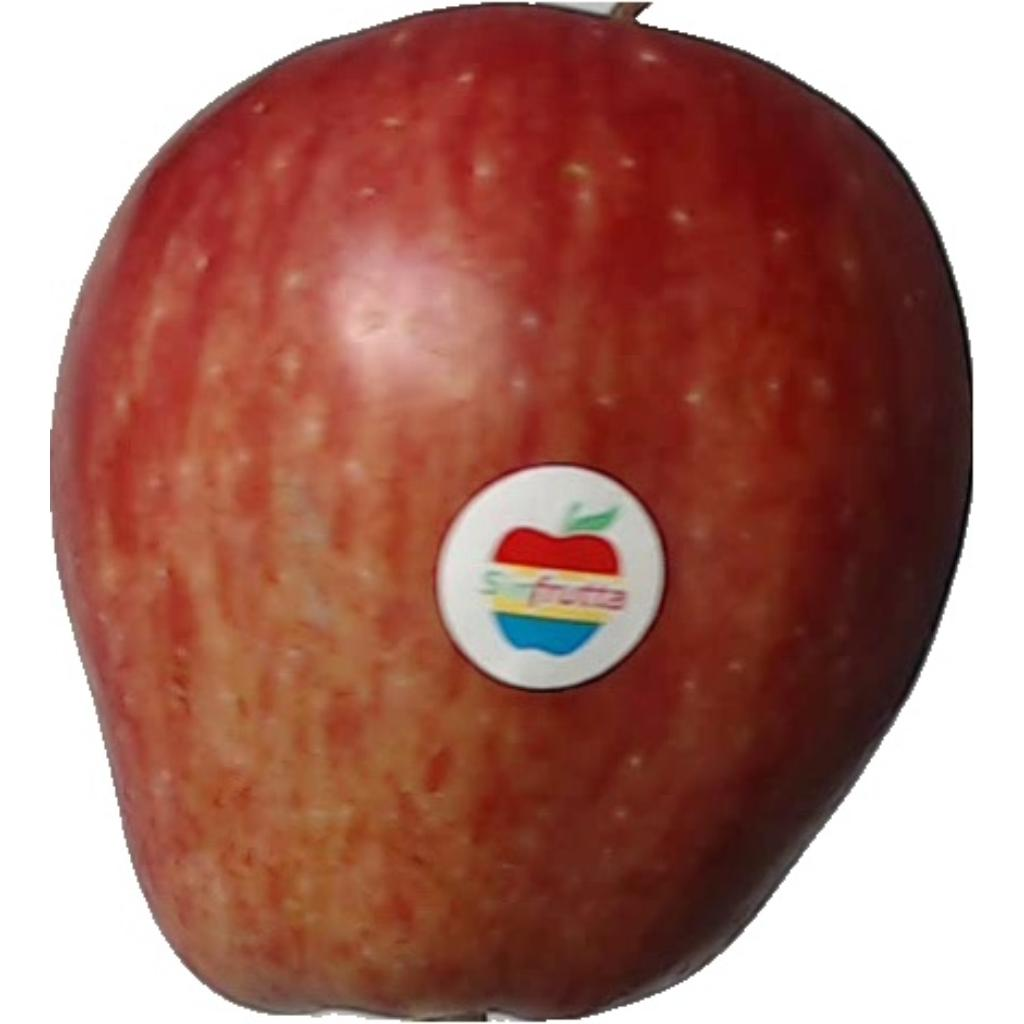apple: (58, 13, 964, 1015)
